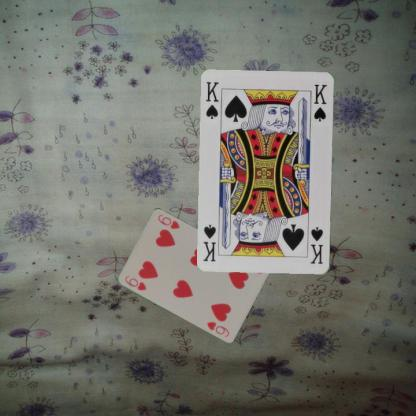6h: (122, 272, 147, 292)
Ks: (308, 224, 325, 266), (204, 79, 220, 121)
